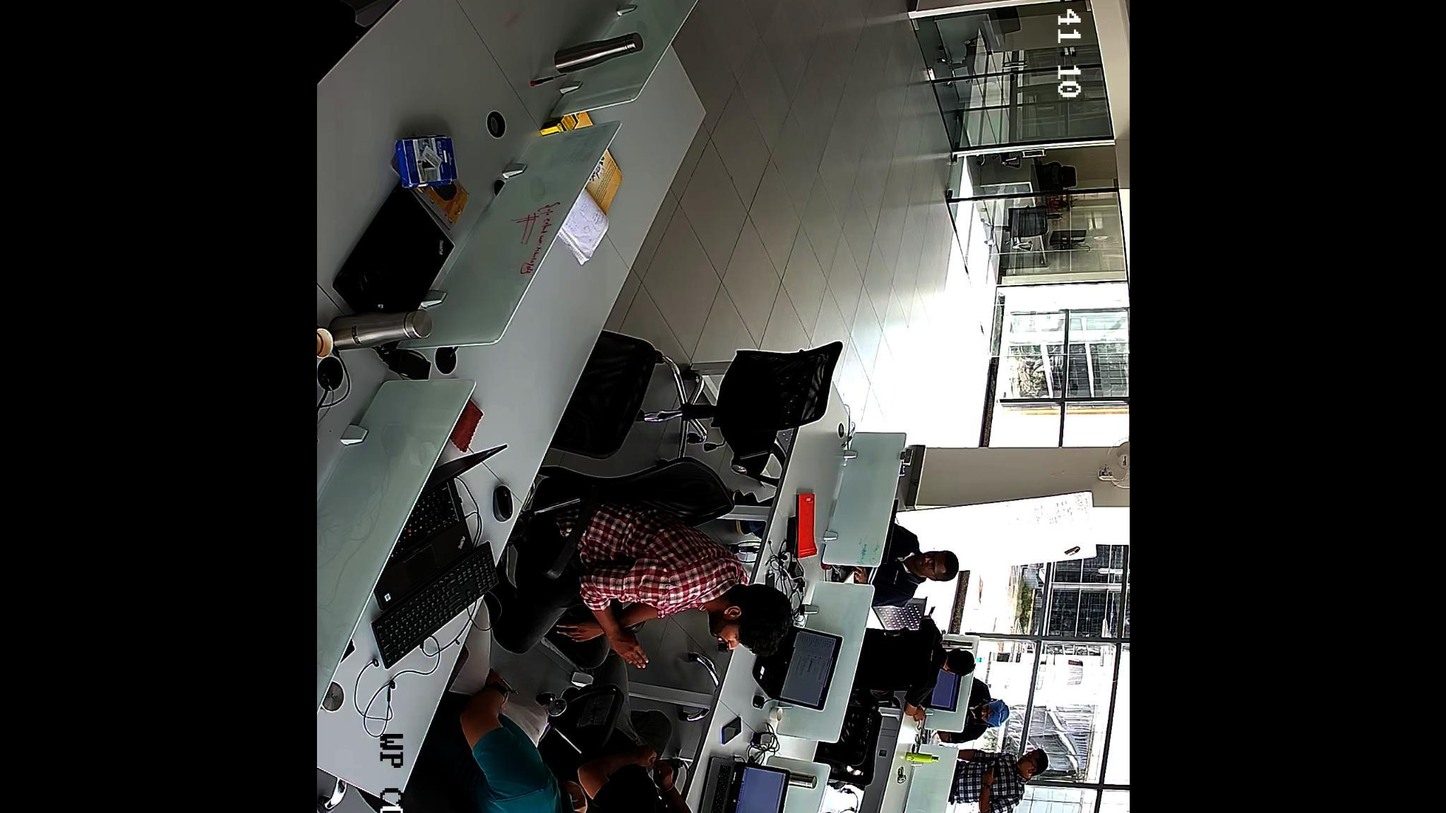gun: (985, 755, 1000, 777)
